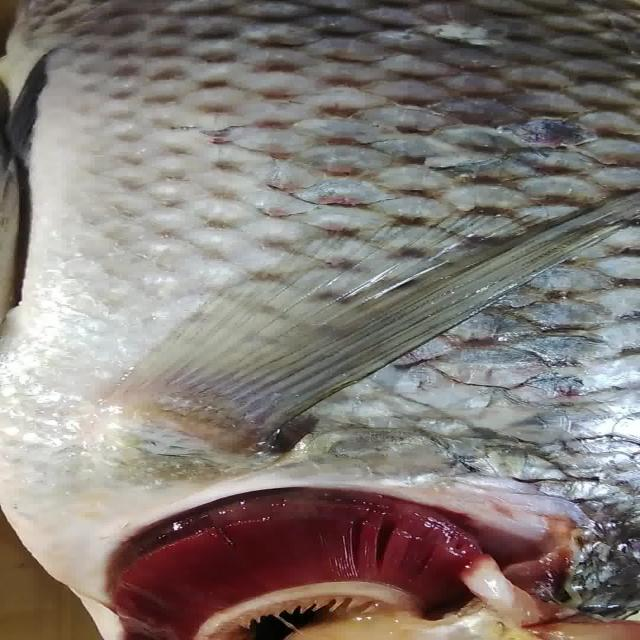Fresh: (128, 475, 535, 640)
